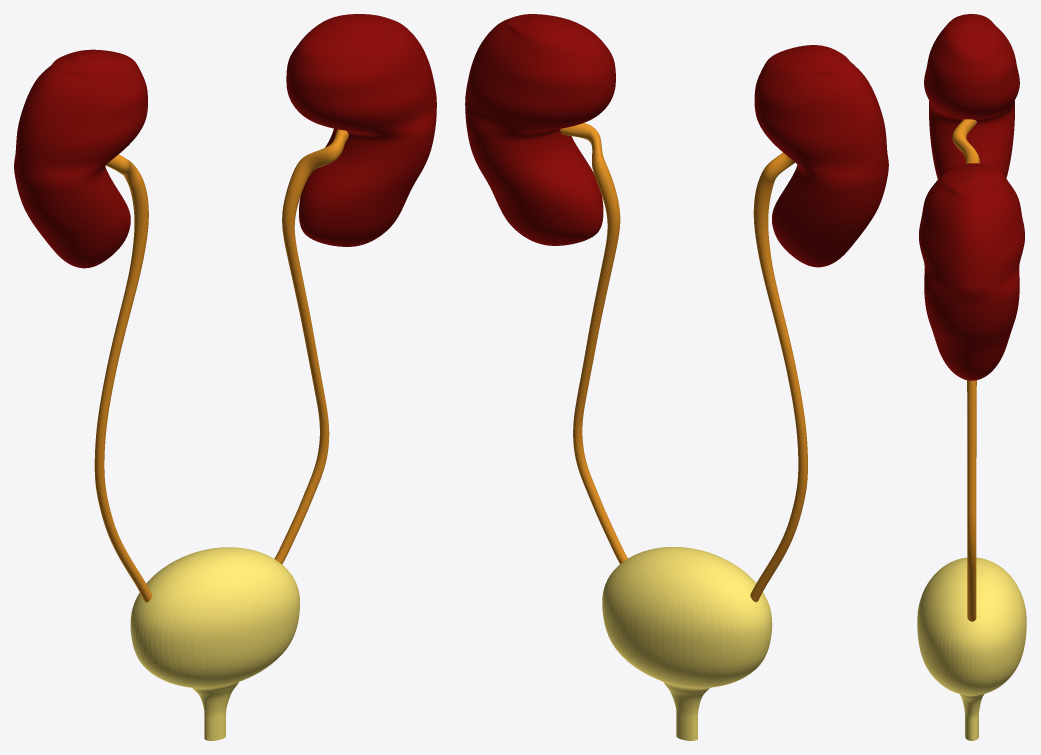
File: ExcretoryFinal.fbx
3 views of the same model, side by side, from view 1: azimuth 30°, elevation 25°; view 2: azimuth 150°, elevation 25°; view 3: azimuth 270°, elevation 25° (orthographic). The views are drawn at different scales.
Visible parts, largest first — view 1: Excretory; view 2: Excretory; view 3: Excretory.
Boxes of the visible parts, bbox=[...] form: Excretory: bbox=[14, 14, 436, 740]; Excretory: bbox=[465, 14, 888, 740]; Excretory: bbox=[917, 14, 1026, 740].
Bounding box in the file's own units: 946 × 1570 × 237.
